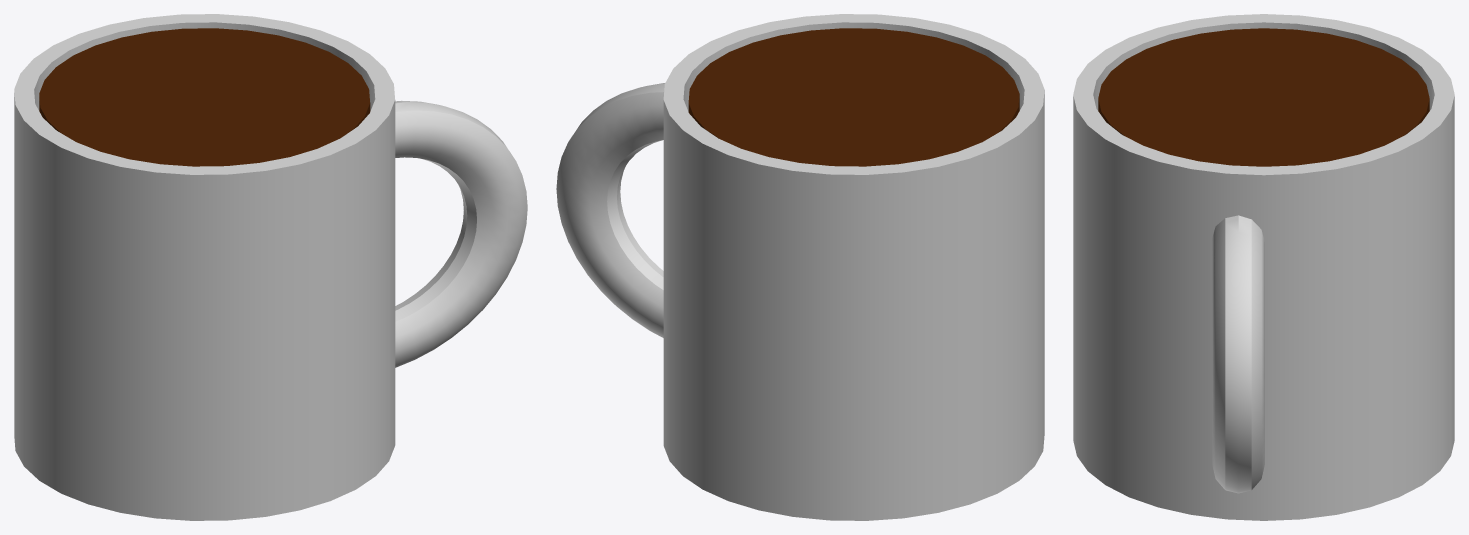
Rendered from CoffeMug8.fbx.
3 views of the same model, side by side, from view 1: azimuth 30°, elevation 25°; view 2: azimuth 150°, elevation 25°; view 3: azimuth 270°, elevation 25° (orthographic).
Visible parts, largest first — view 1: Mug, Coffee; view 2: Mug, Coffee; view 3: Mug, Coffee.
Part boxes in pixels (x1,y1,x2,y2): Mug: (14,14,527,520); Coffee: (39,28,370,166); Mug: (556,14,1044,520); Coffee: (688,28,1019,166); Mug: (1073,14,1454,520); Coffee: (1098,28,1429,166).
Size of the model in its own units: 12.51 by 8.77 by 8.77.
